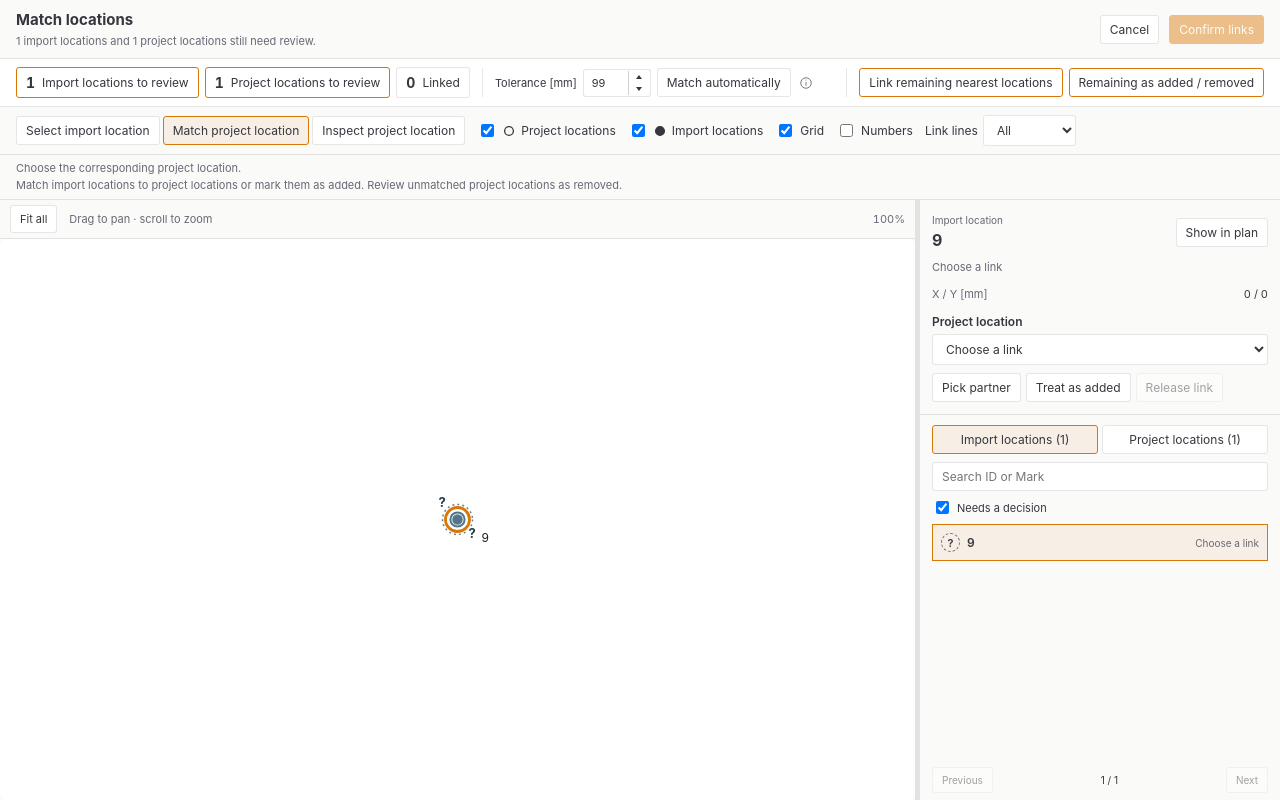
Test case: choosing added advances to the remaining old location and deciding removal finishes review
What coordinates should you click on to do the following:
click the button "Treat as added"
I would click on:
 (1078, 388)
Its box is [1026, 373, 1131, 402].
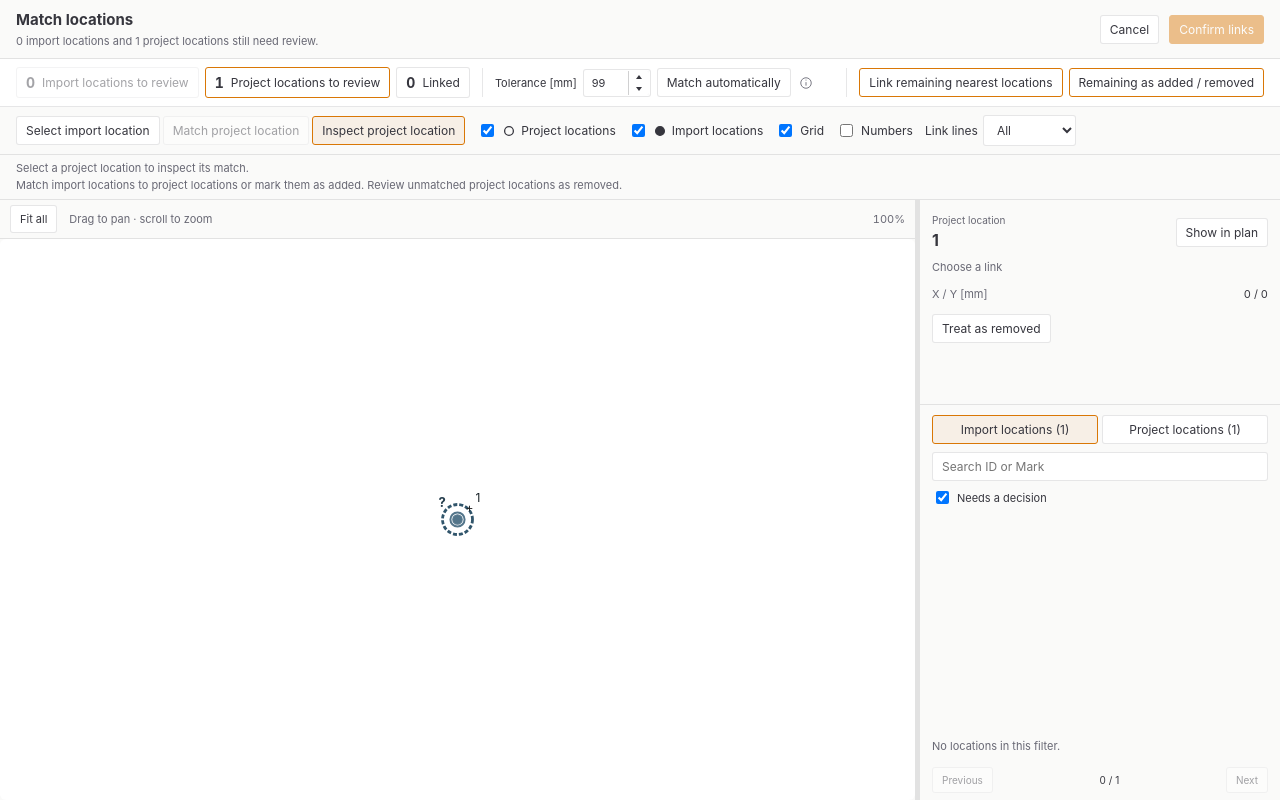
Now the button "Treat as removed" is shown
What coordinates should you click on to do the following:
click the button "Treat as removed"
I would click on:
 (991, 328)
Its box is [932, 314, 1051, 343].
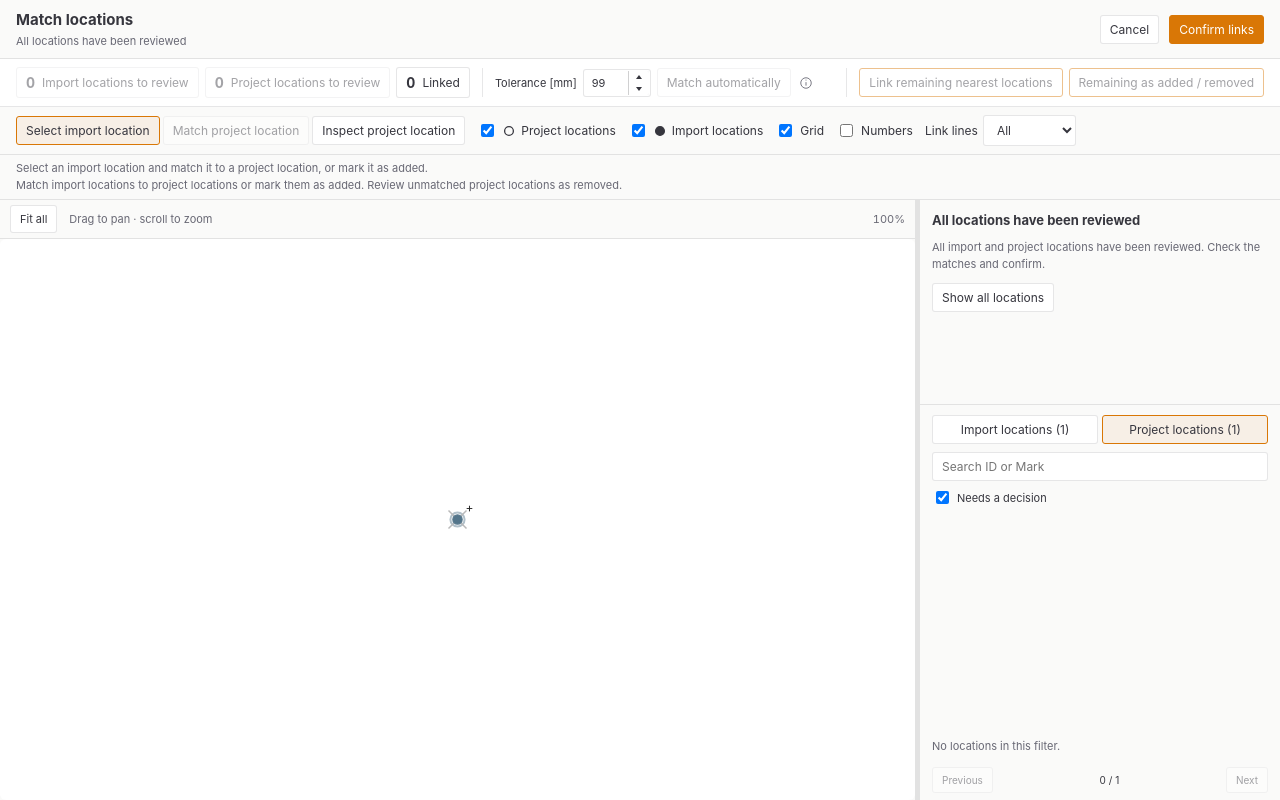
Now the button "Confirm links" is enabled, box [1169, 14, 1264, 44]
Now the button "Show all locations" is shown, box [932, 283, 1054, 312]
